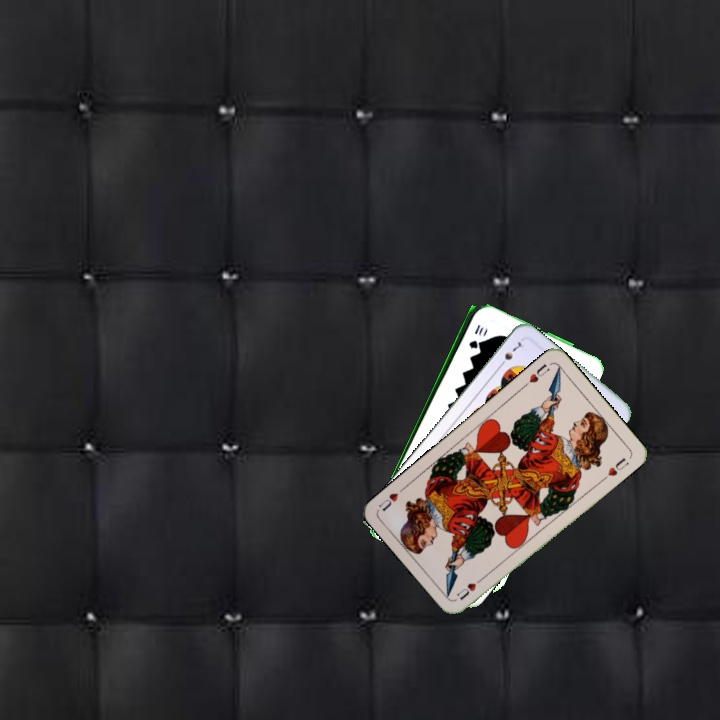G10: (465, 320, 483, 351)
HU: (452, 573, 487, 602), (520, 360, 552, 390)
S7: (495, 336, 527, 370)
